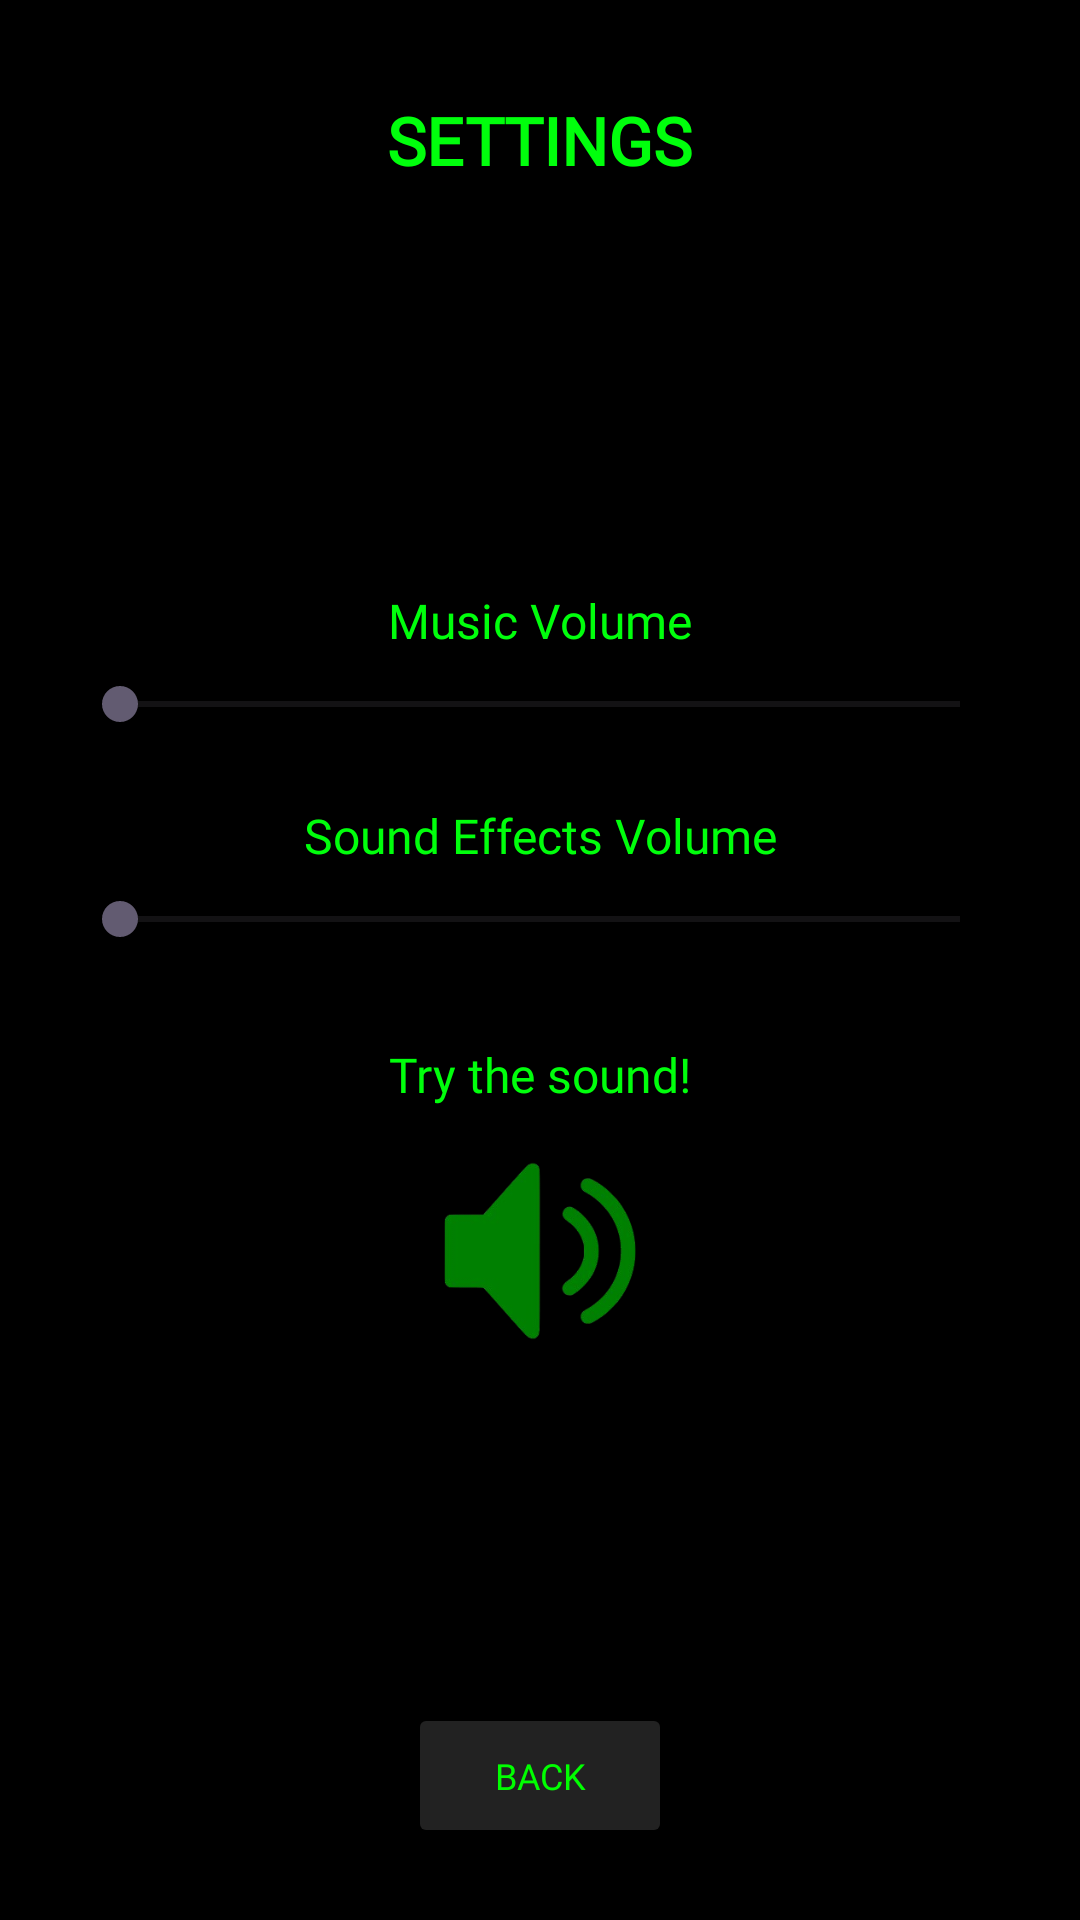

Icons on this 1080 x 1920 Android screen, each with the point to tap as [x,y]:
audio: [540,1251]
